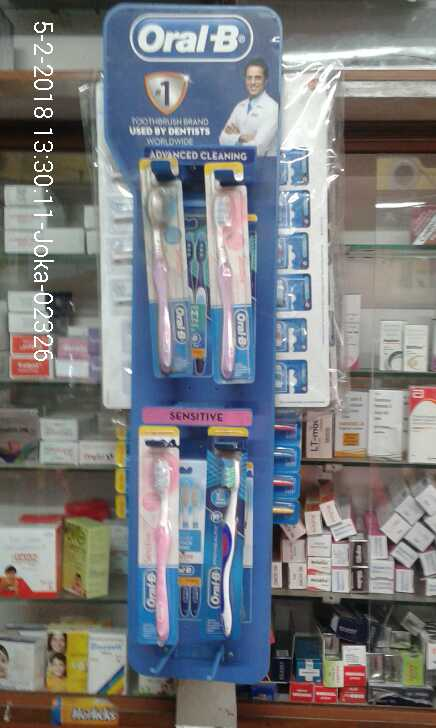oralb: (200, 167, 253, 380), (143, 160, 194, 378), (204, 414, 250, 646), (138, 419, 183, 644)
